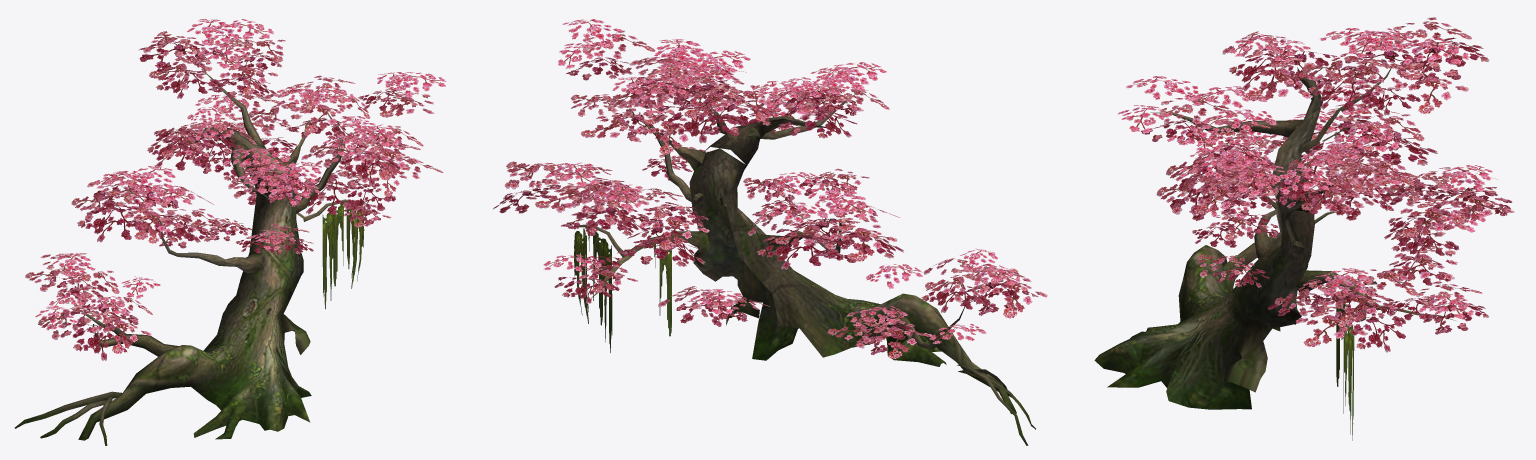
The model's file is S_Tree_Green133_A4.FBX.
The picture shows the model from 3 angles, left to right: view 1: azimuth 30°, elevation 25°; view 2: azimuth 150°, elevation 25°; view 3: azimuth 270°, elevation 25°; orthographic projection. The views are drawn at different scales.
Visible parts, largest first — view 1: S_Tree_Green133_A4_2, S_Tree_Green133_A4_1, S_Tree_Green133_A4_3; view 2: S_Tree_Green133_A4_2, S_Tree_Green133_A4_1, S_Tree_Green133_A4_3; view 3: S_Tree_Green133_A4_2, S_Tree_Green133_A4_1, S_Tree_Green133_A4_3.
Part boxes in pixels (left/top/right/bottom): S_Tree_Green133_A4_2: left=25, top=19, right=446, bottom=360; S_Tree_Green133_A4_1: left=14, top=69, right=366, bottom=445; S_Tree_Green133_A4_3: left=322, top=202, right=364, bottom=309; S_Tree_Green133_A4_2: left=493, top=19, right=1047, bottom=358; S_Tree_Green133_A4_1: left=577, top=94, right=1035, bottom=445; S_Tree_Green133_A4_3: left=574, top=228, right=671, bottom=352; S_Tree_Green133_A4_2: left=1118, top=17, right=1514, bottom=352; S_Tree_Green133_A4_1: left=1094, top=67, right=1455, bottom=409; S_Tree_Green133_A4_3: left=1336, top=292, right=1354, bottom=440.
Size of the model in its own units: 411 by 279 by 280.
